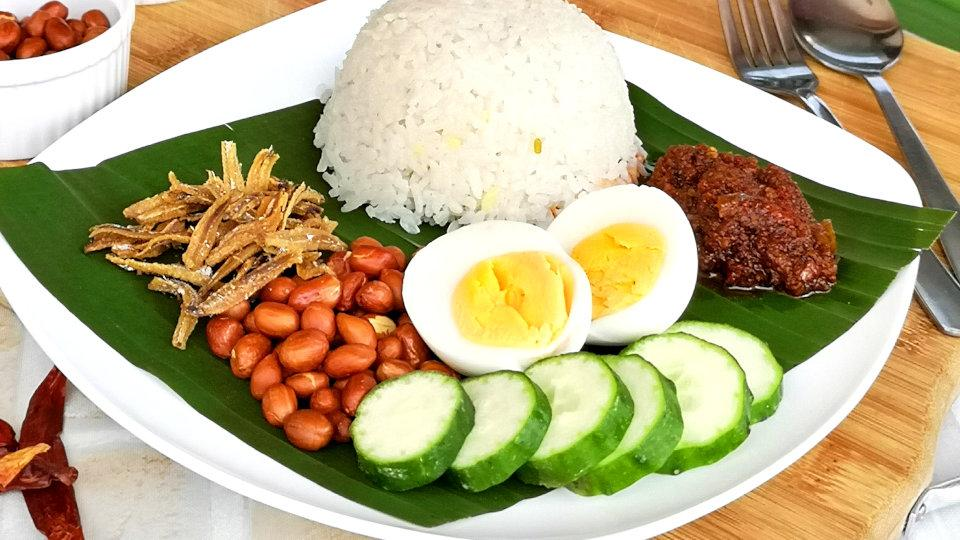Anchovies: (79, 138, 351, 349)
Boiled-Egg: (402, 186, 701, 377)
Cucumber: (351, 324, 784, 500)
Peanuts: (210, 234, 453, 443)
Rice: (311, 0, 642, 231)
Sambal: (643, 147, 842, 302)
